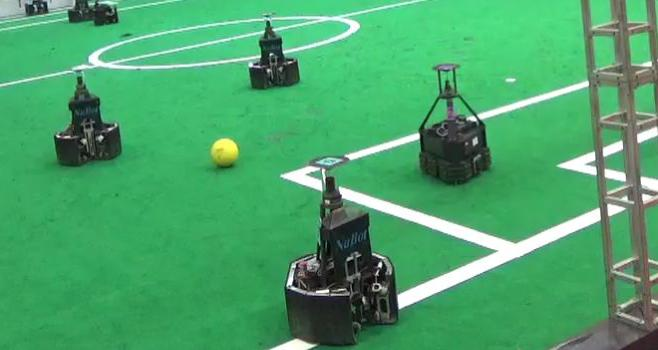robot: (281, 156, 401, 346), (417, 62, 494, 187), (49, 64, 124, 170), (245, 12, 302, 91)
